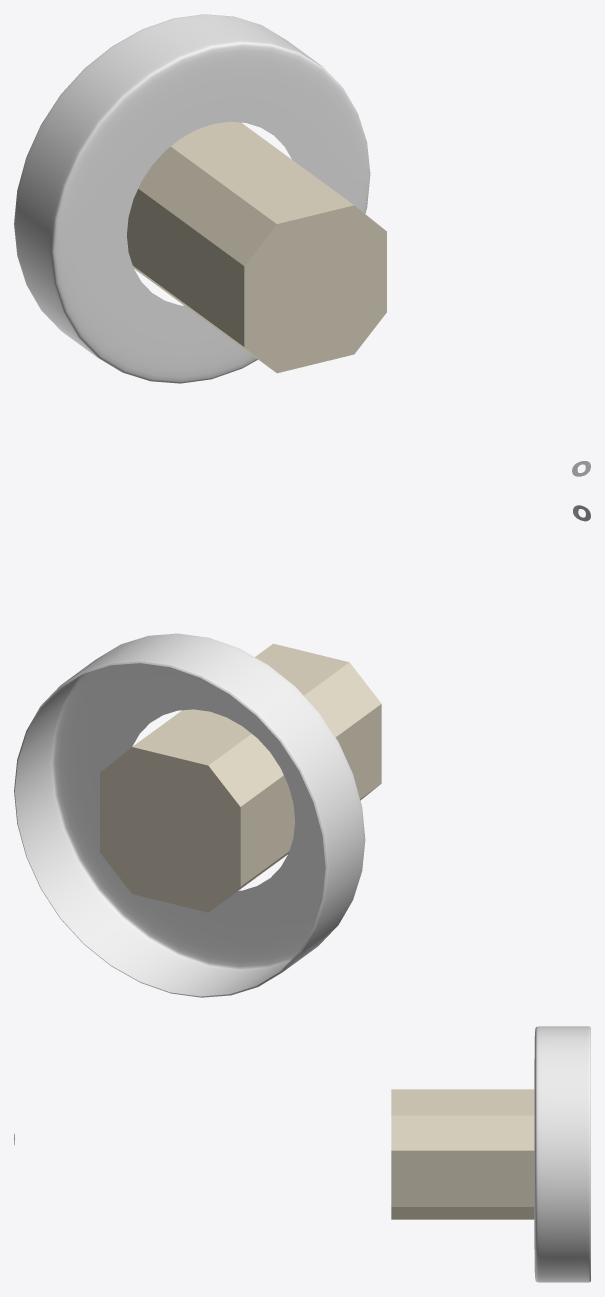
The model's file is 9969526-lock.dae.
3 renders of one model, top to bottom at view 1: azimuth 30°, elevation 25°; view 2: azimuth 150°, elevation 25°; view 3: azimuth 270°, elevation 25°, orthographic. The views are drawn at different scales.
Visible parts, largest first — view 1: group_3.052, group_1.097; view 2: group_3.052, group_1.097; view 3: group_1.097, group_3.052.
Boxes of the visible parts, bbox=[...] form: group_3.052: bbox=[14, 14, 370, 383]; group_1.097: bbox=[127, 121, 386, 373]; group_3.052: bbox=[14, 633, 365, 997]; group_1.097: bbox=[100, 643, 381, 912]; group_1.097: bbox=[391, 1089, 534, 1219]; group_3.052: bbox=[534, 1026, 590, 1282].
Size of the model in its own units: 0.0273 by 0.0612 by 0.0273.
